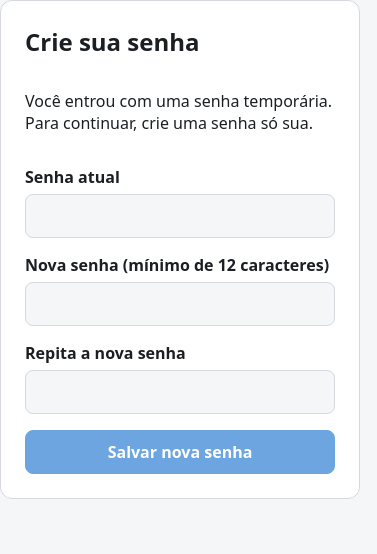
Test: trocar senha › senha atual errada: mostra a explicação da API
This screenshot has width=377, height=554.
Type "errada-123456" into the password field labelled "Senha atual" at [180, 216], box x1=25 y1=194 x2=335 y2=238
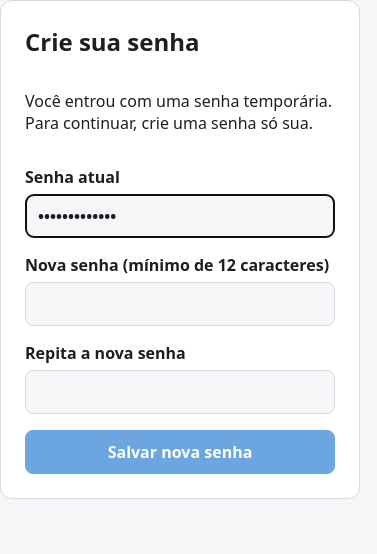
Type "minha-senha-nova-1" into the password field labelled "Nova senha (mínimo de 12 caracteres)" at [180, 304], box x1=25 y1=282 x2=335 y2=326
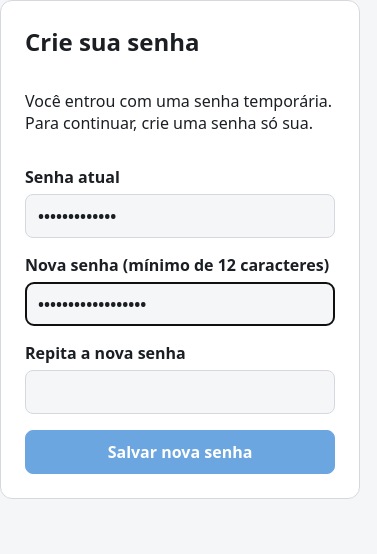
Type "minha-senha-nova-1" into the password field labelled "Repita a nova senha" at [180, 392], box x1=25 y1=370 x2=335 y2=414
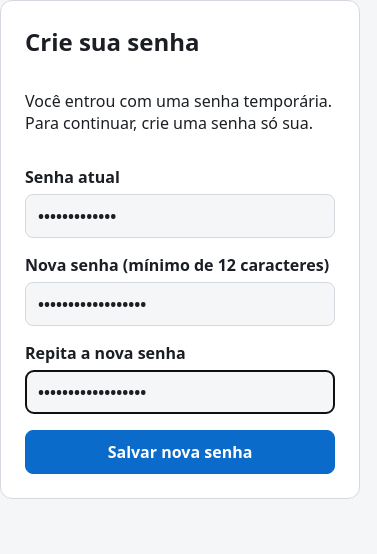
Click the button "Salvar nova senha" at [180, 452], box x1=25 y1=430 x2=335 y2=474
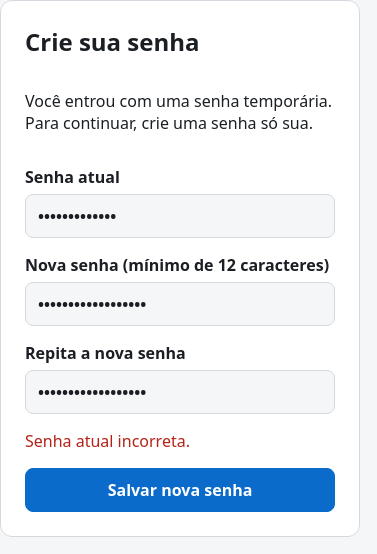
Now the message reads "Senha atual incorreta.", box x1=25 y1=430 x2=190 y2=452
